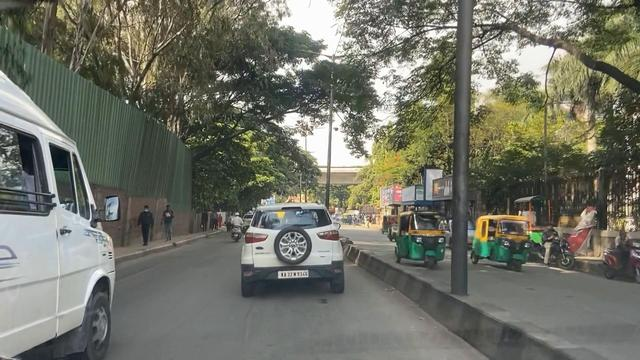HMV: (0, 69, 128, 360)
LMV: (241, 195, 350, 295)
